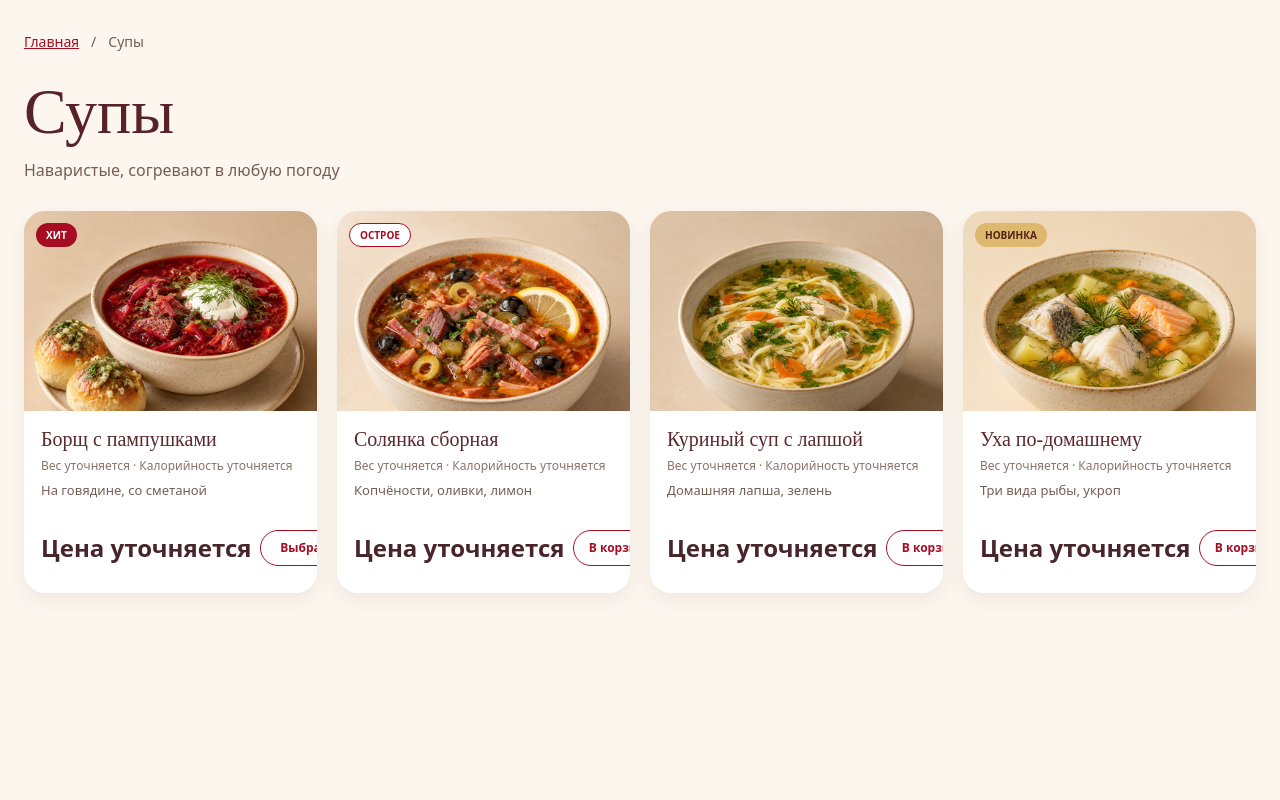
it: карточка открывает описание выбранного блюда
Click the button named "Подробнее о блюде «Борщ с пампушками»": (170, 402) [24,211,317,593]
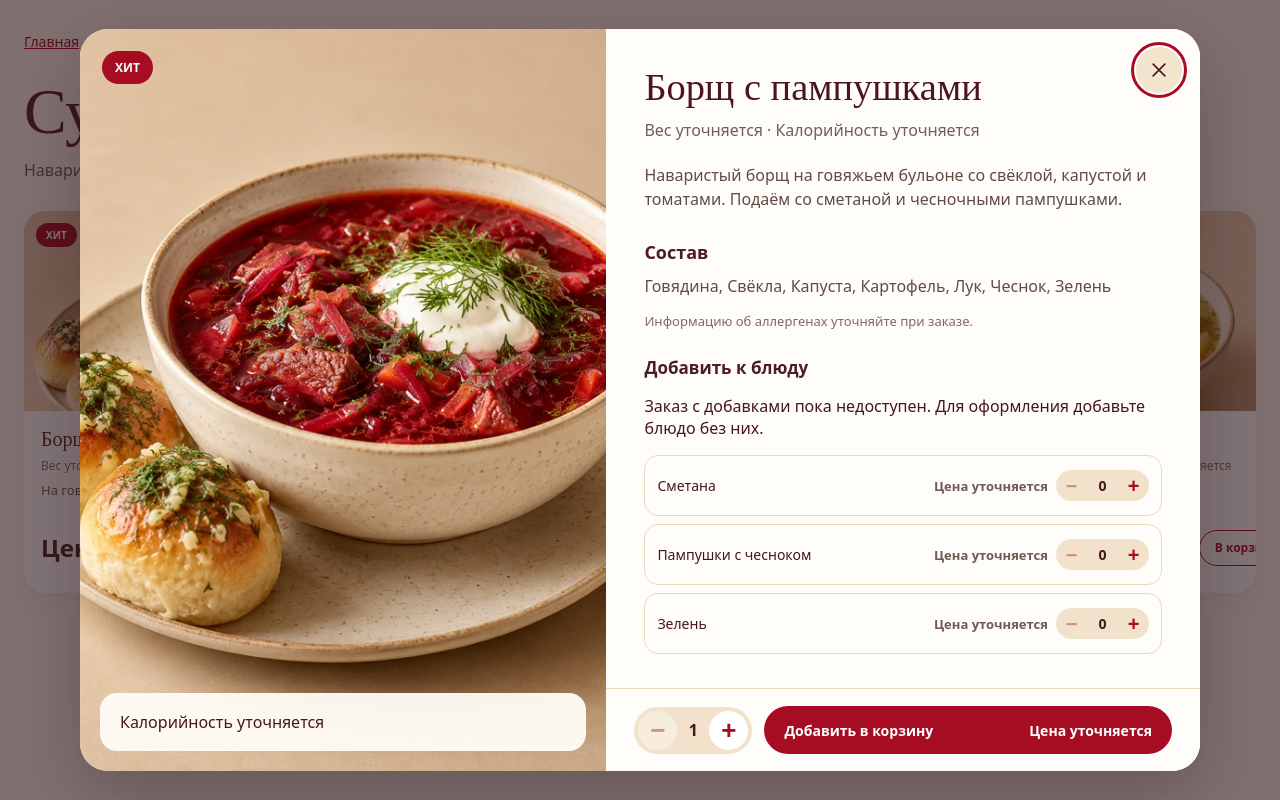
Now the dialog "Борщ с пампушками" is shown
Now the text "Наваристый борщ на говяжьем бульоне" is shown, box [644,164,1146,210]
Click the button named "Закрыть окно": (1159, 70) [1136,47,1182,93]
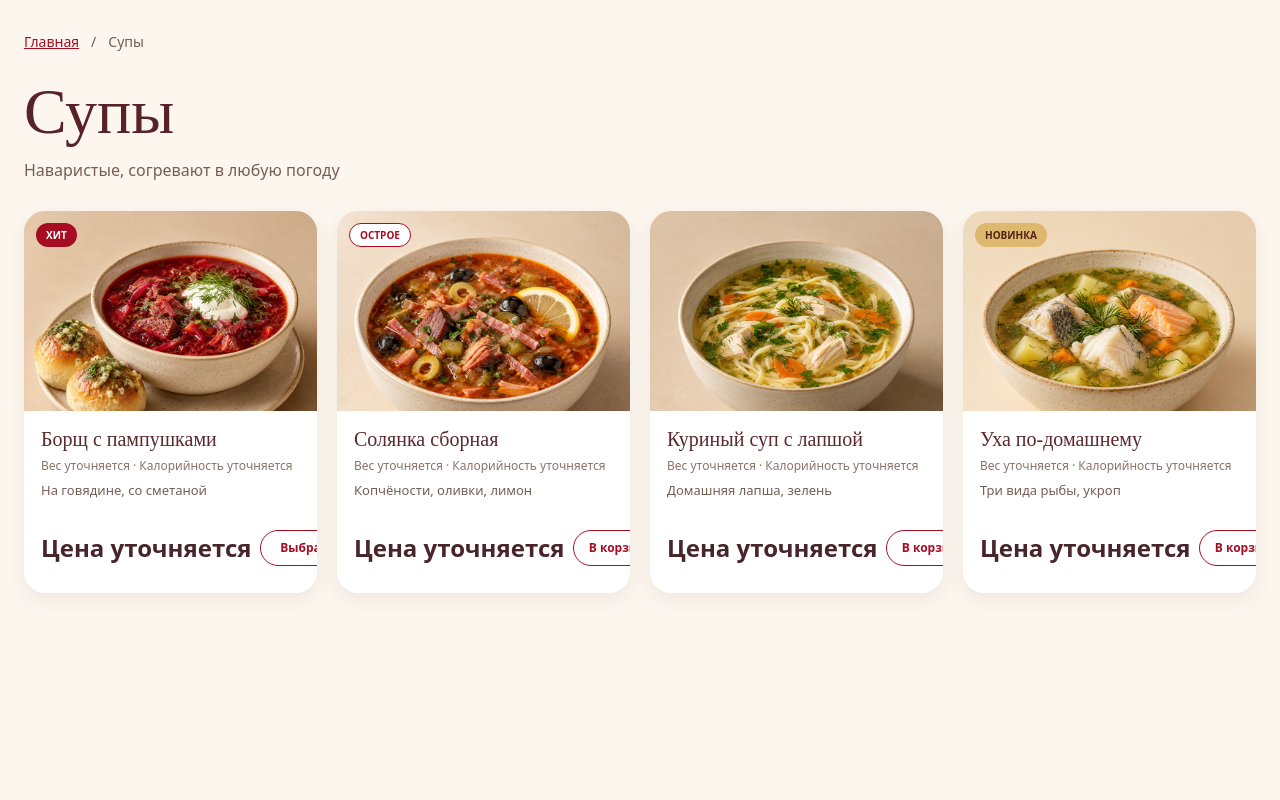
Now the dialog is gone
